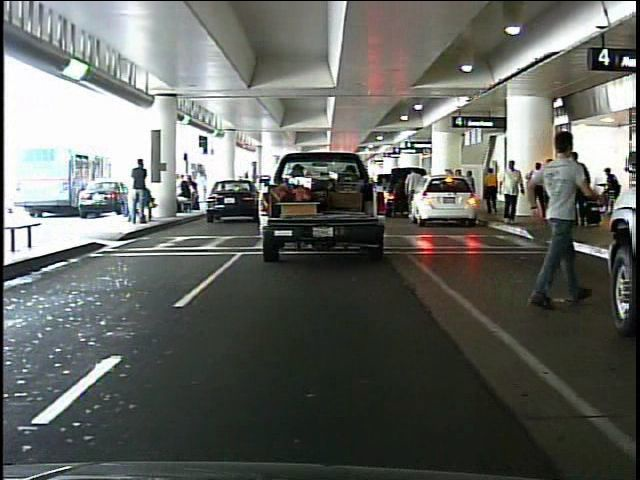person: (513, 117, 596, 326), (496, 158, 527, 229), (539, 152, 559, 233), (132, 157, 155, 227), (402, 165, 424, 218), (482, 164, 502, 216), (598, 164, 624, 196), (575, 148, 577, 231)
